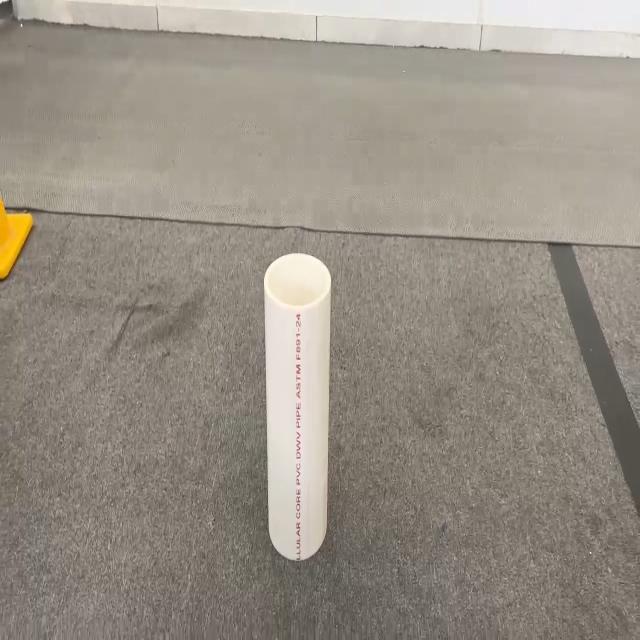coral: (262, 251, 332, 561)
